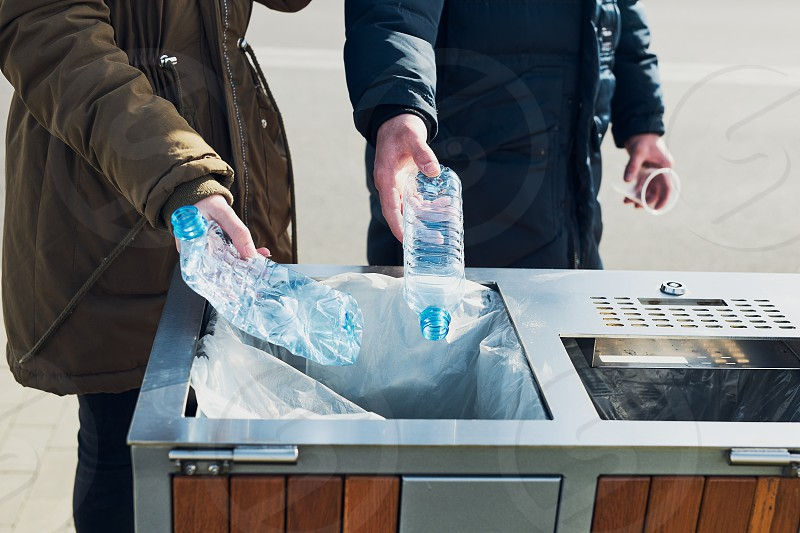plastic_bottle: (91, 141, 387, 406), (338, 80, 531, 414)
